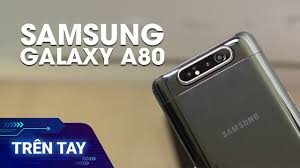samsung: (149, 26, 300, 168)
